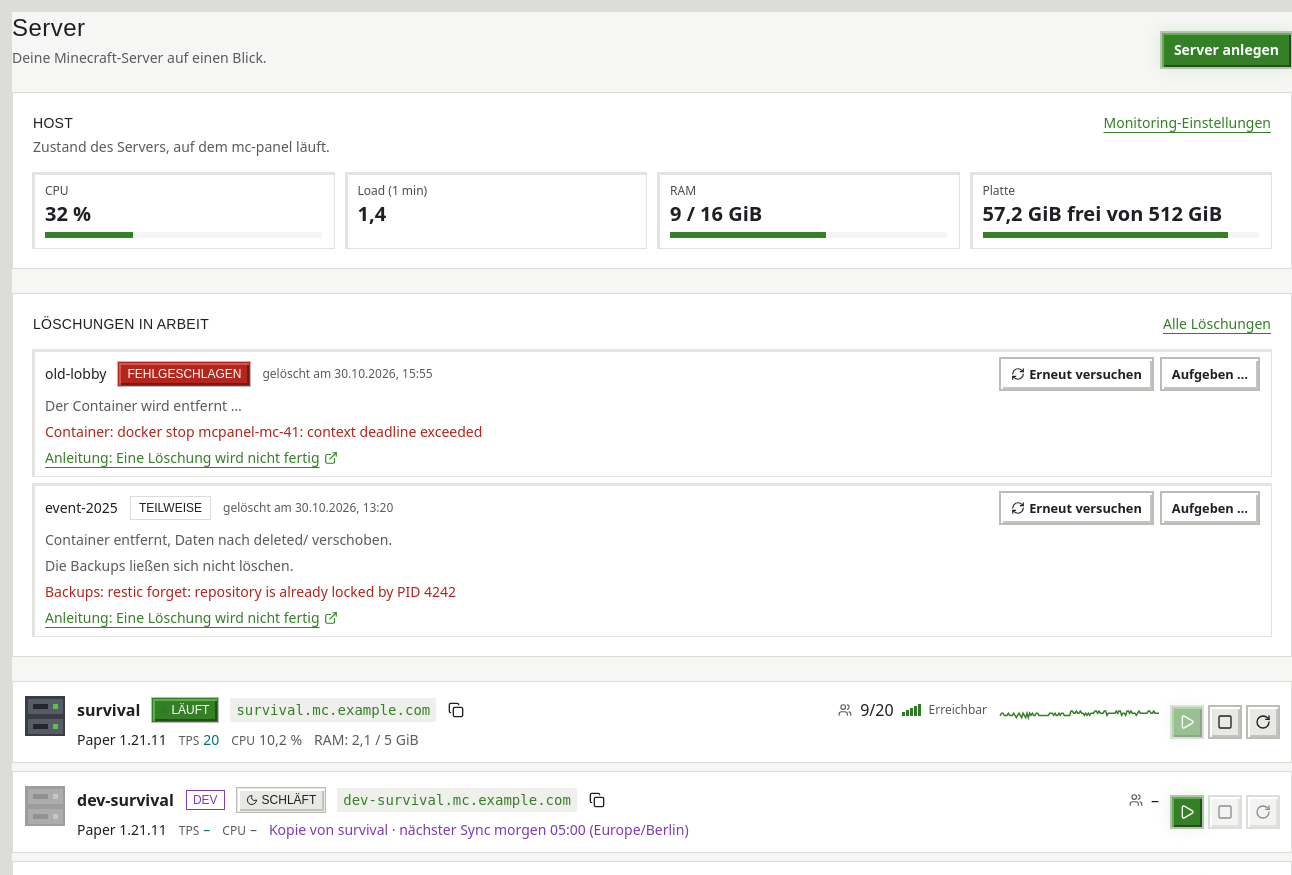
open deletions on the dashboard (#148) › shows admins the deletions that are not done, with a retry for failed and partial ones
The width and height of the screenshot is (1292, 875).
Check: the list item that starts with "old-lobby" shows "Fehlgeschlagen", box x1=127 y1=367 x2=241 y2=381
Check: the list item that starts with "old-lobby" shows "Container: docker stop mcpanel-mc-41: context deadline exceeded", box x1=45 y1=422 x2=482 y2=441
Click the button with aria-label "Löschung von old-lobby erneut versuchen".
click(1076, 374)  # box x1=1000 y1=358 x2=1153 y2=390
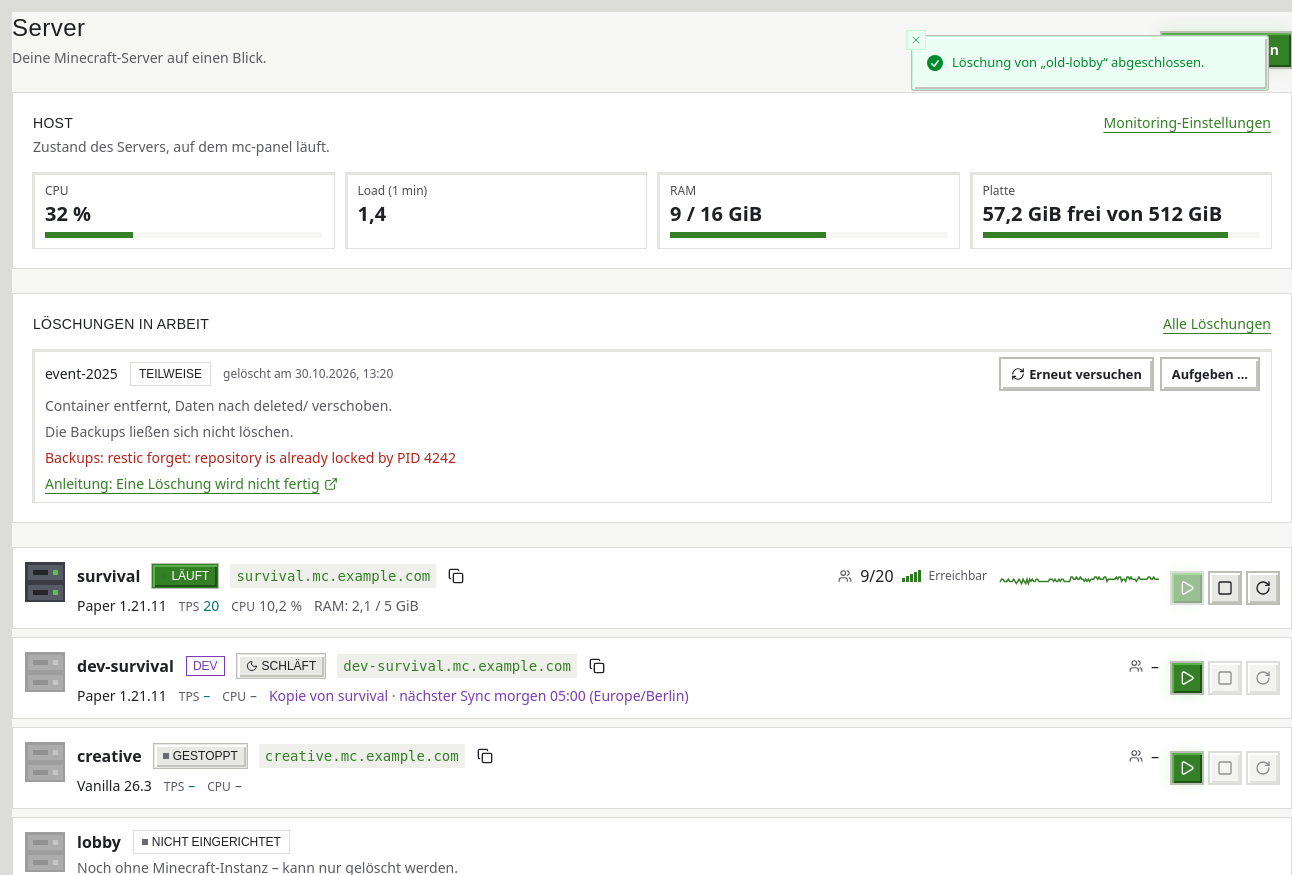
Check: the text "Löschung von „old-lobby“ abgeschlossen." is shown, box x1=952 y1=53 x2=1205 y2=72
